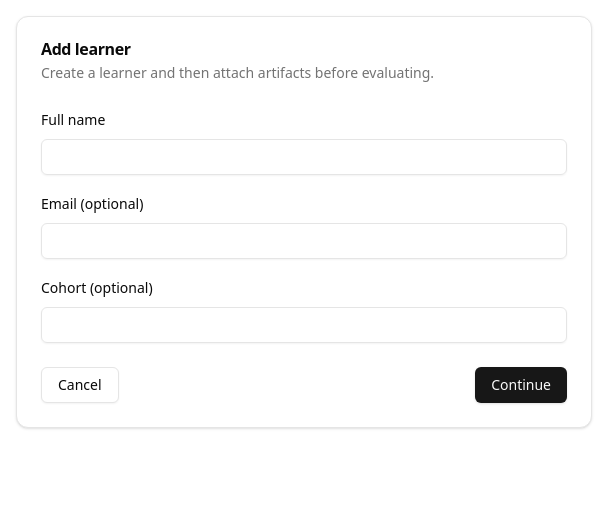
Scenario: LearnerNewPage › surfaces a backend error from Phase A
Step 1. Type "Ada" into the field labelled "Full name" → (304,157), box [41,139,567,175]
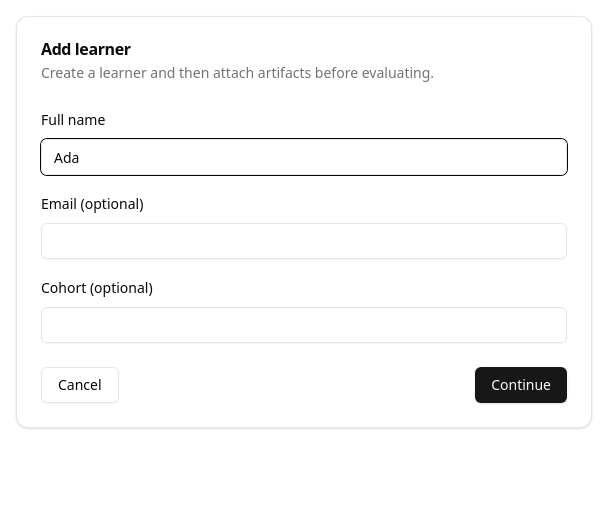
Step 2. Click the button with test id "phase-a-submit" → (521,385), box [475,367,567,403]
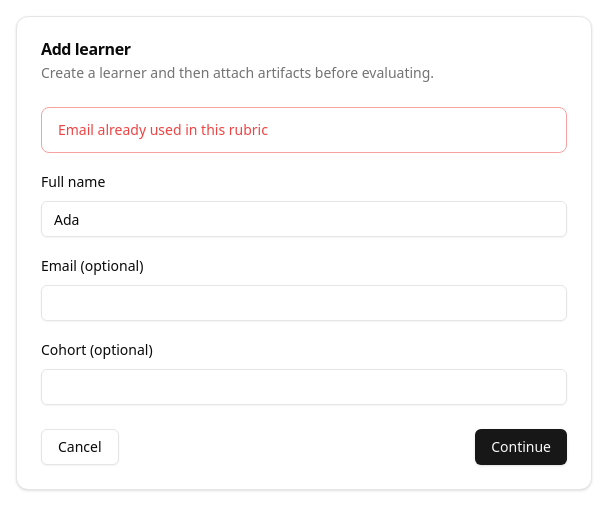
Now the message with test id "phase-a-error" shows "already used", box [58,120,268,139]
